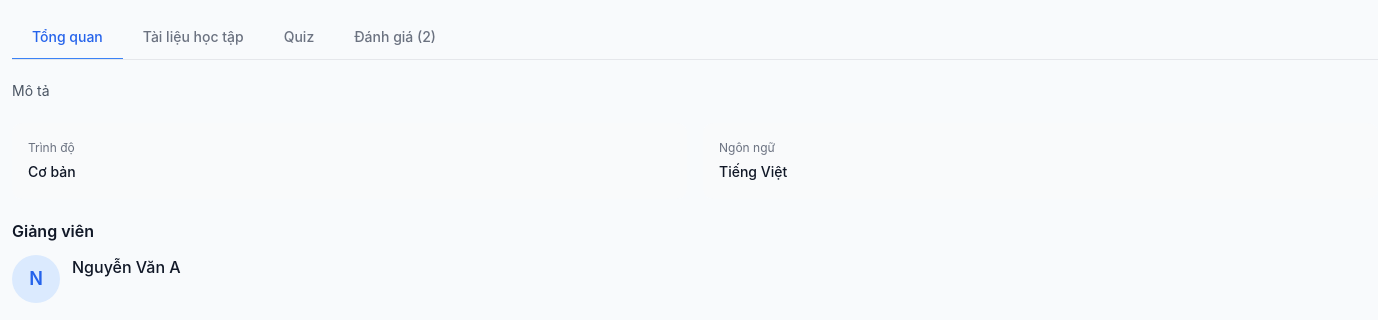
Test case: PlayerTabs › bài không có quiz -> thông báo rỗng tiếng Việt có dấu
This screenshot has width=1378, height=320.
Click the button "Quiz".
click(299, 38)  # box [264, 16, 334, 60]
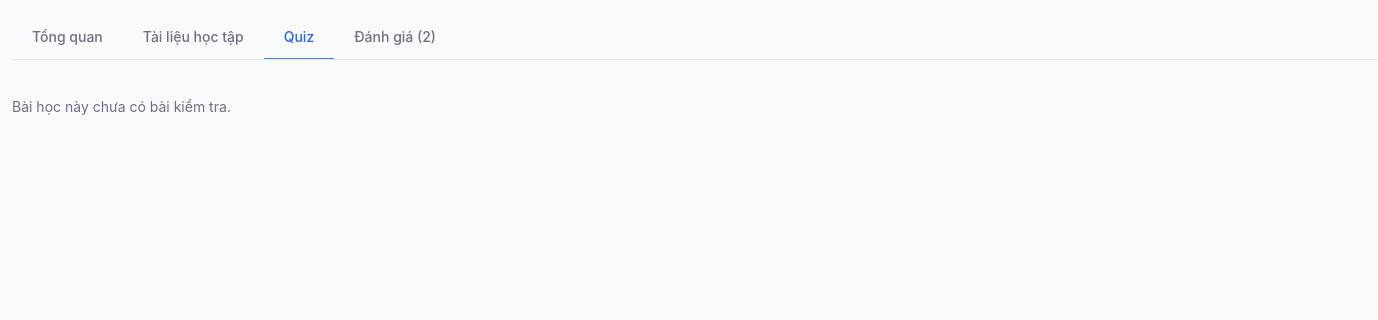
expect the text "Bài học này chưa có bài kiểm tra." is shown: met, box [12, 98, 231, 115]
